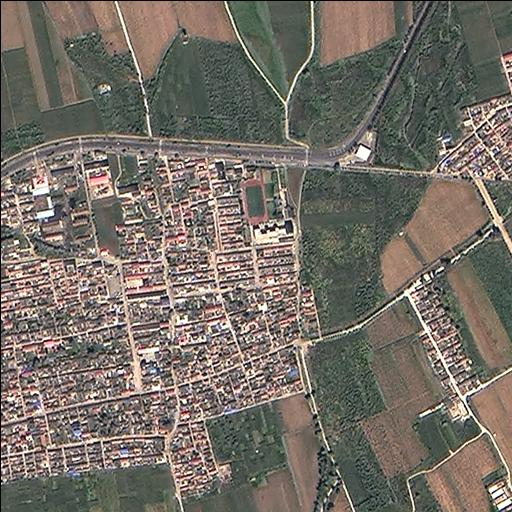school: (239, 162, 298, 248)
